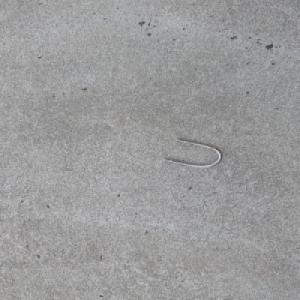ClampPart: (161, 138, 223, 168)
